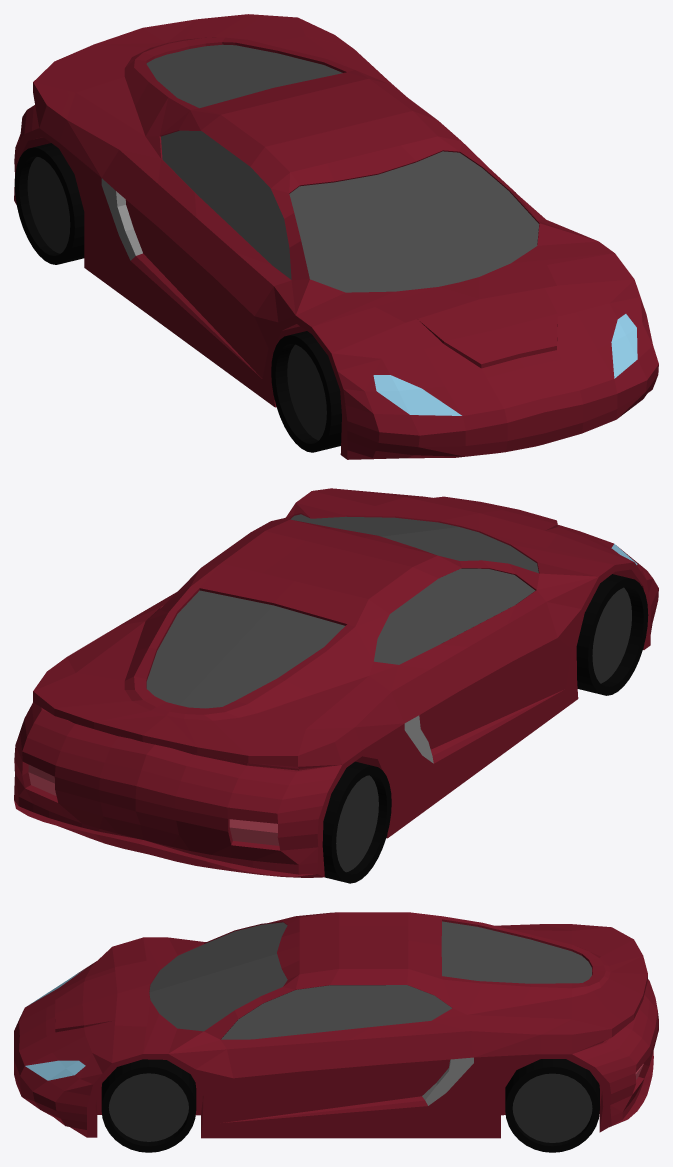
The model's file is SportsCarLowPoly.fbx.
3 views of the same model, one above another, from view 1: azimuth 30°, elevation 25°; view 2: azimuth 150°, elevation 25°; view 3: azimuth 270°, elevation 25° (orthographic). The views are drawn at different scales.
Visible parts, largest first — view 1: Cube.001, Cylinder, Cylinder.001; view 2: Cube.001, Cylinder, Cylinder.001, Cube.002; view 3: Cube.001, Cylinder, Cylinder.001.
Part boxes in pixels (left/top/right/bottom): Cube.001: left=14, top=14, right=658, bottom=459; Cylinder: left=271, top=331, right=341, bottom=452; Cylinder.001: left=14, top=143, right=84, bottom=264; Cube.001: left=14, top=488, right=658, bottom=877; Cylinder: left=576, top=574, right=648, bottom=695; Cylinder.001: left=14, top=761, right=391, bottom=883; Cube.002: left=28, top=764, right=279, bottom=845; Cube.001: left=14, top=912, right=658, bottom=1138; Cylinder: left=101, top=1059, right=196, bottom=1152; Cylinder.001: left=505, top=1059, right=599, bottom=1152.
Size of the model in its own units: 172 by 99.94 by 386.
Materials: 1 (1 with a texture image).
